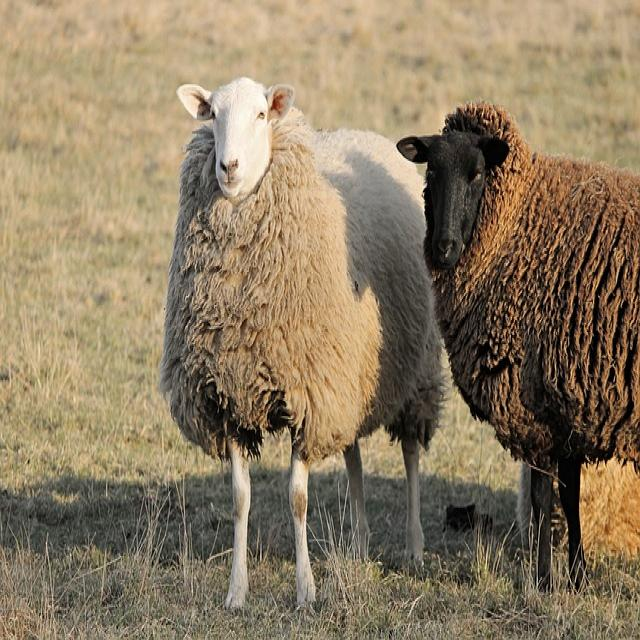sheep: (158, 74, 448, 613), (395, 98, 639, 595)
